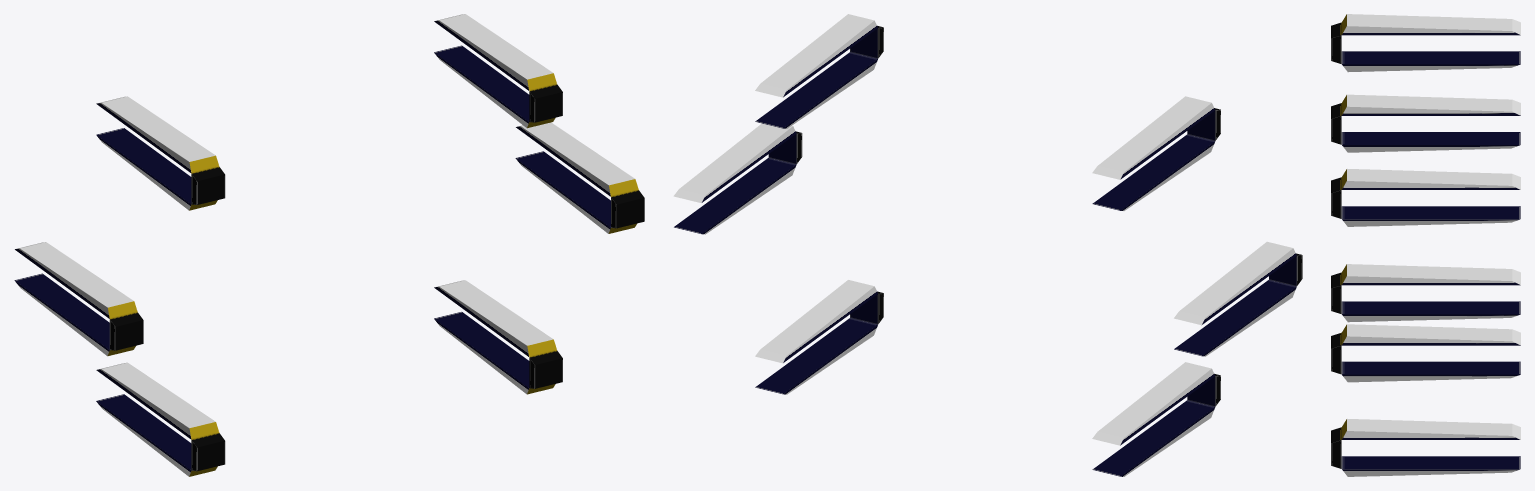
Rendered from FinFanel02.fbx.
3 views of the same model, side by side, from view 1: azimuth 30°, elevation 25°; view 2: azimuth 150°, elevation 25°; view 3: azimuth 270°, elevation 25° (orthographic). The views are drawn at different scales.
Visible parts, largest first — view 1: FinFanel2, FinFanel1, FinFanel3, FinFanel4, FinFanel, FinFanel5; view 2: FinFanel3, FinFanel, FinFanel2, FinFanel4, FinFanel1, FinFanel5; view 3: FinFanel5, FinFanel2, FinFanel1, FinFanel3, FinFanel4, FinFanel.
Boxes of the visible parts, x1,y1,x2,y2 form: FinFanel2: (96,362,225,476); FinFanel1: (96,96,225,210); FinFanel3: (14,242,143,356); FinFanel4: (434,280,562,394); FinFanel: (434,14,562,128); FinFanel5: (515,122,644,233); FinFanel3: (1174,241,1302,356); FinFanel: (755,14,883,128); FinFanel2: (1092,362,1220,476); FinFanel4: (755,280,883,394); FinFanel1: (1092,96,1220,210); FinFanel5: (673,123,802,234); FinFanel5: (1331,324,1520,382); FinFanel2: (1331,264,1520,322); FinFanel1: (1331,14,1520,72); FinFanel3: (1331,94,1520,152); FinFanel4: (1331,418,1520,476); FinFanel: (1331,168,1520,226).
Size of the model in its own units: 522 by 297 by 173.
1 material, 1 textured.
